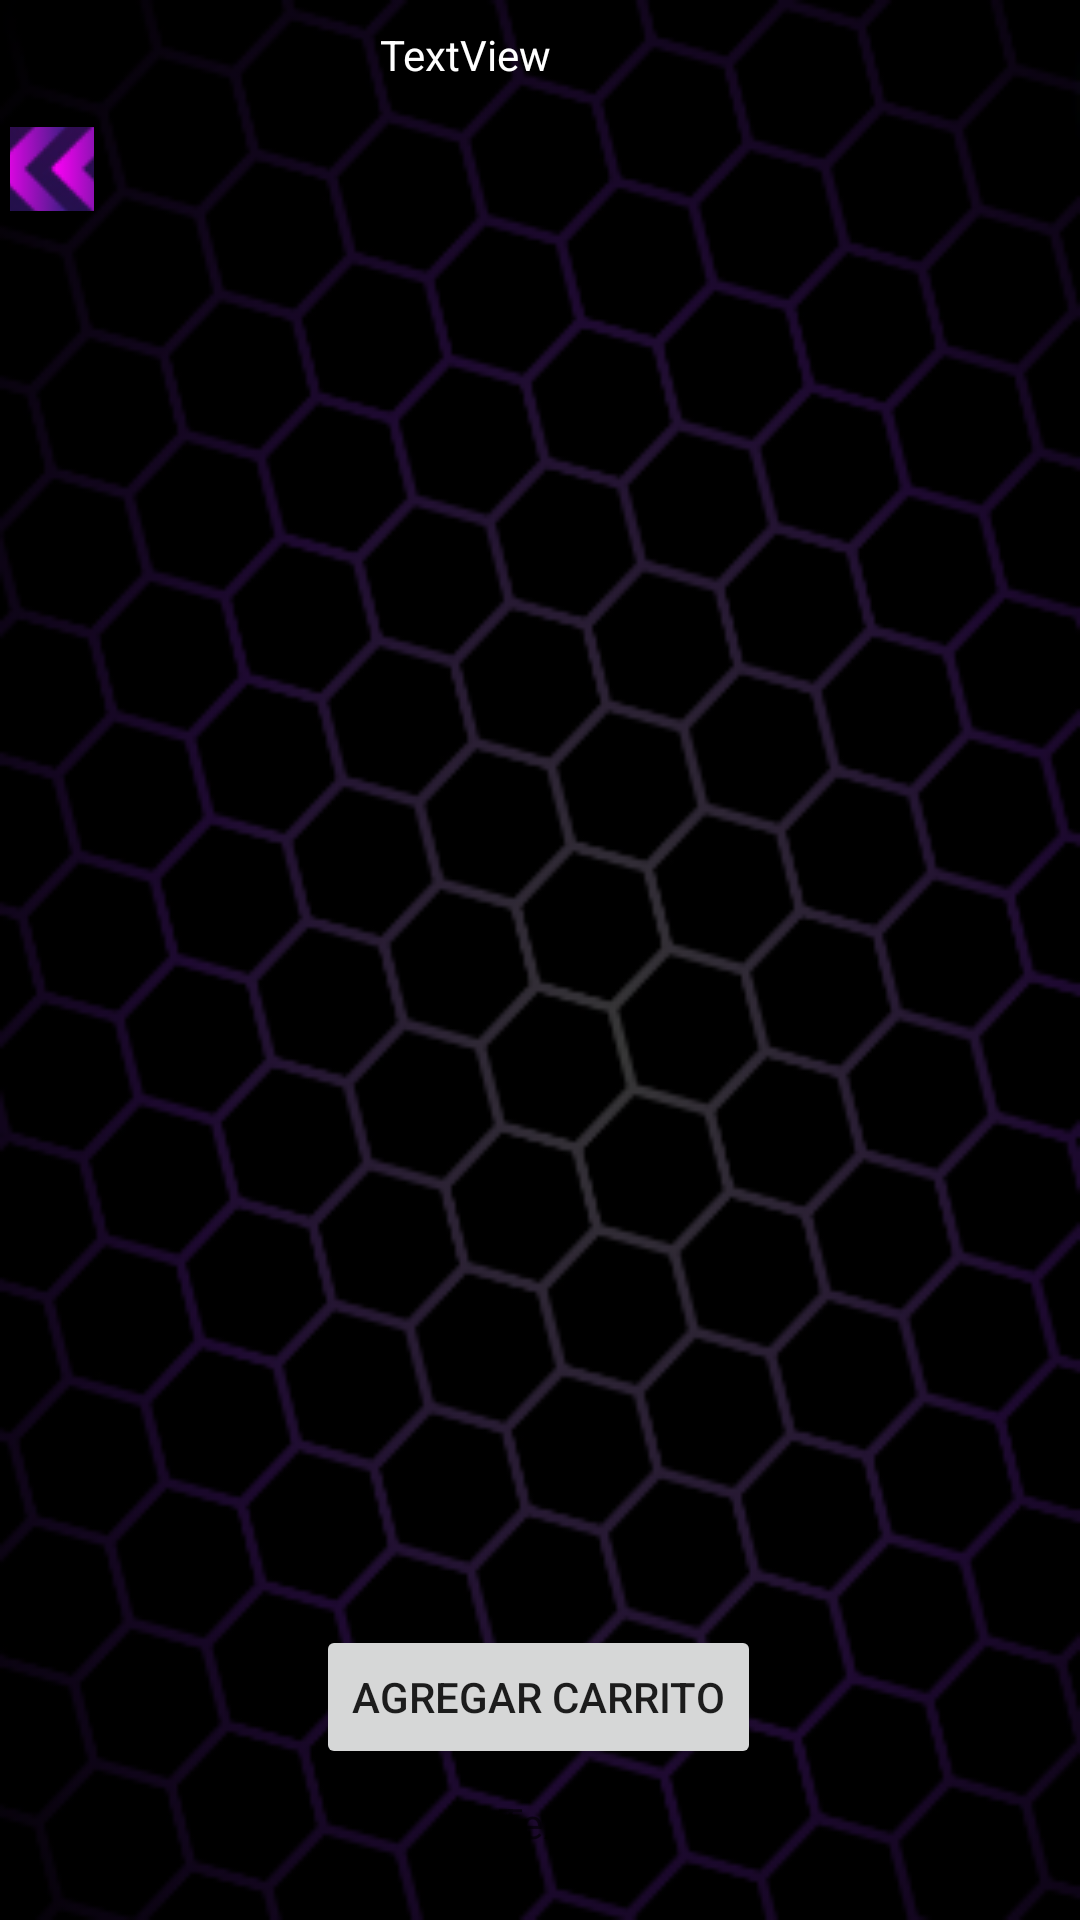

Screen size 1080px x 1920px. Icon name, then its center in pixels as (x=x, y=y):
flechaizquierda: (x=52, y=169)
